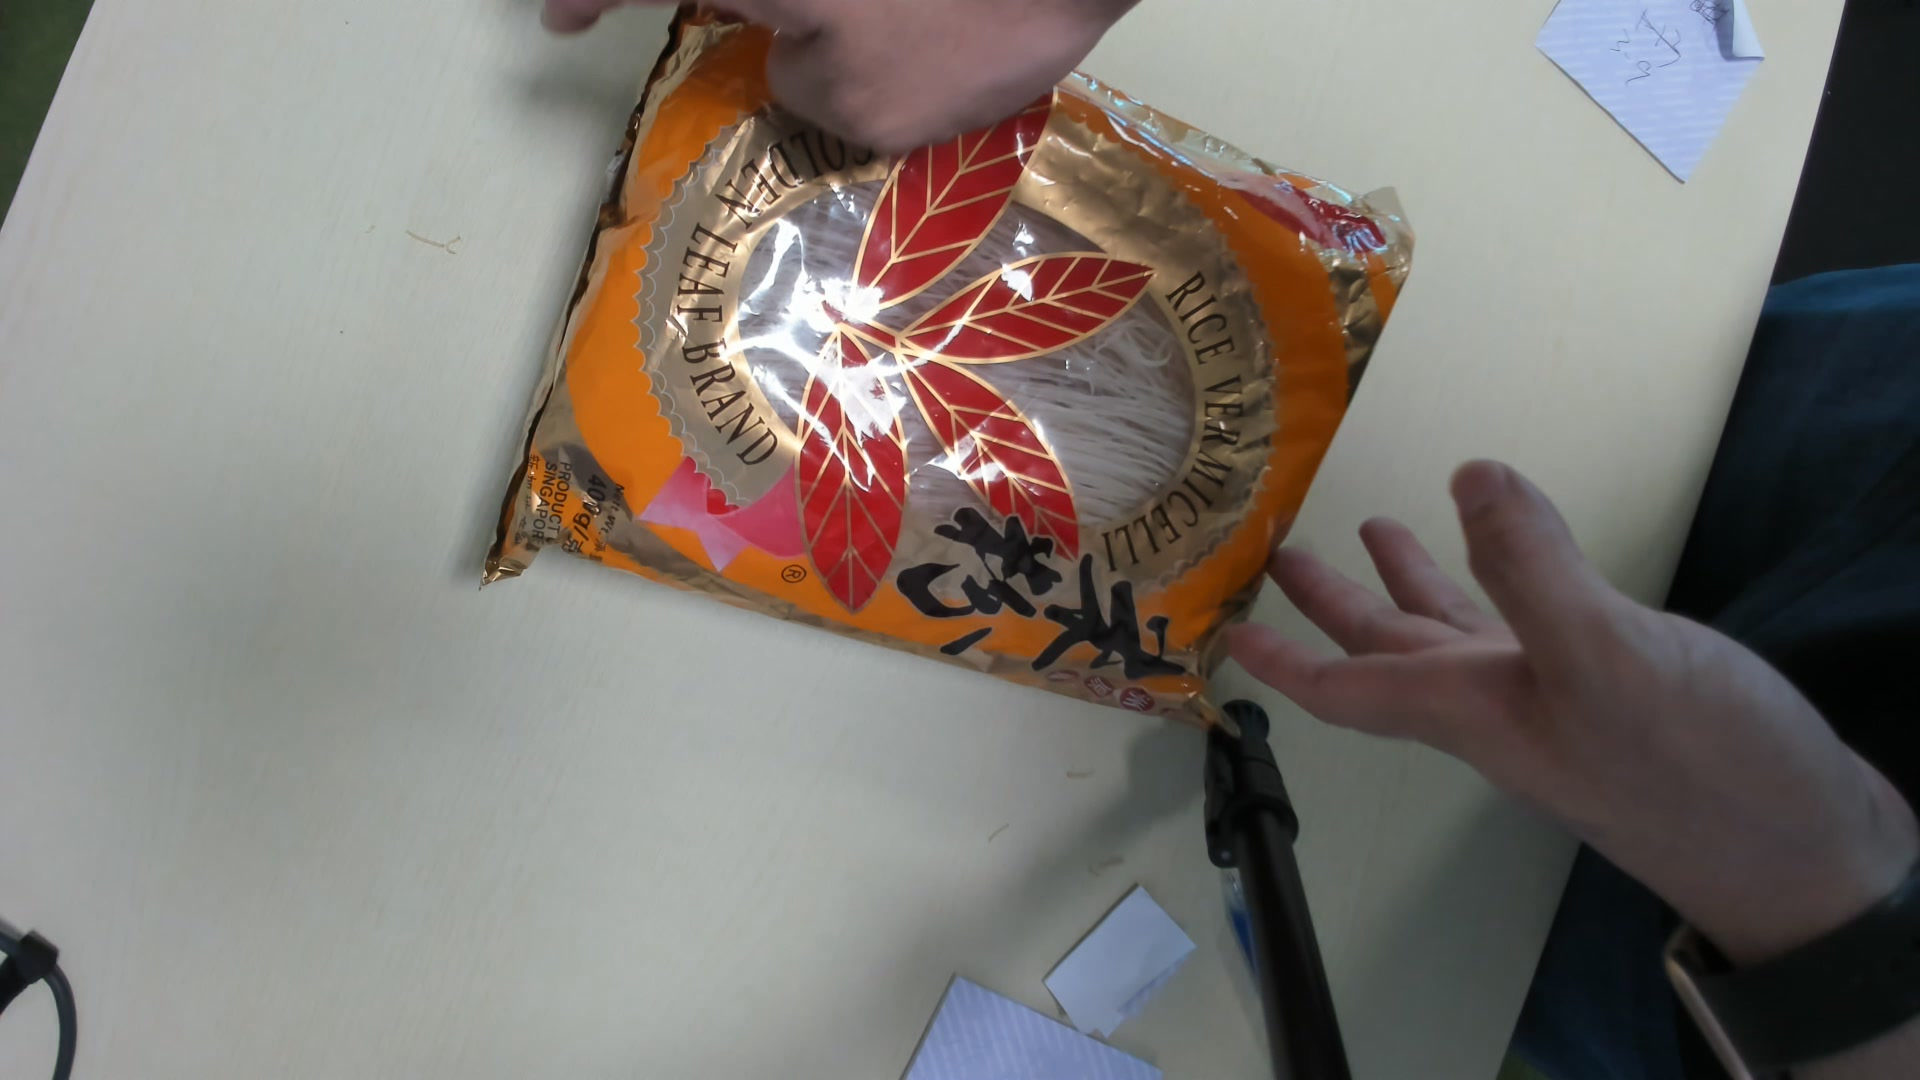OtherNoodles_400-499g_Halal_NonHealthy: (446, 3, 1415, 720)
